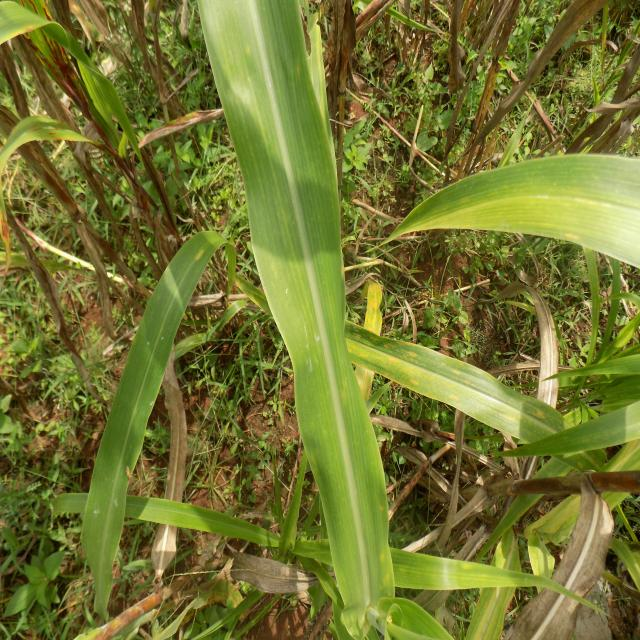millet_healthy: (192, 0, 394, 625), (65, 224, 232, 621), (341, 302, 593, 464), (398, 153, 640, 276)
